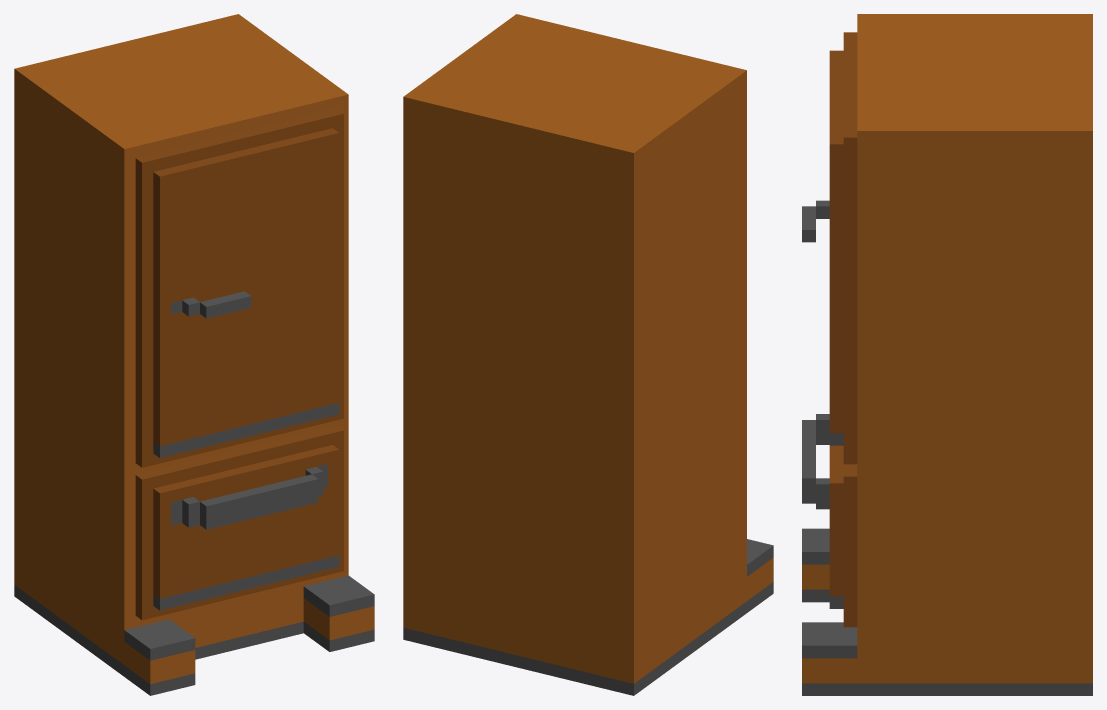
File: Fridge.obj
The picture shows the model from 3 angles, left to right: view 1: azimuth 30°, elevation 25°; view 2: azimuth 150°, elevation 25°; view 3: azimuth 270°, elevation 25°; orthographic projection. The views are drawn at different scales.
Size of the model in its own units: 2 by 4.5 by 2.1.
1 material, 1 textured.
